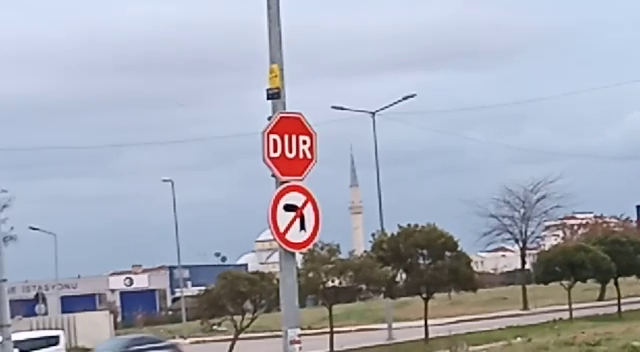no_left: (266, 181, 323, 255)
stop: (258, 107, 321, 184)
